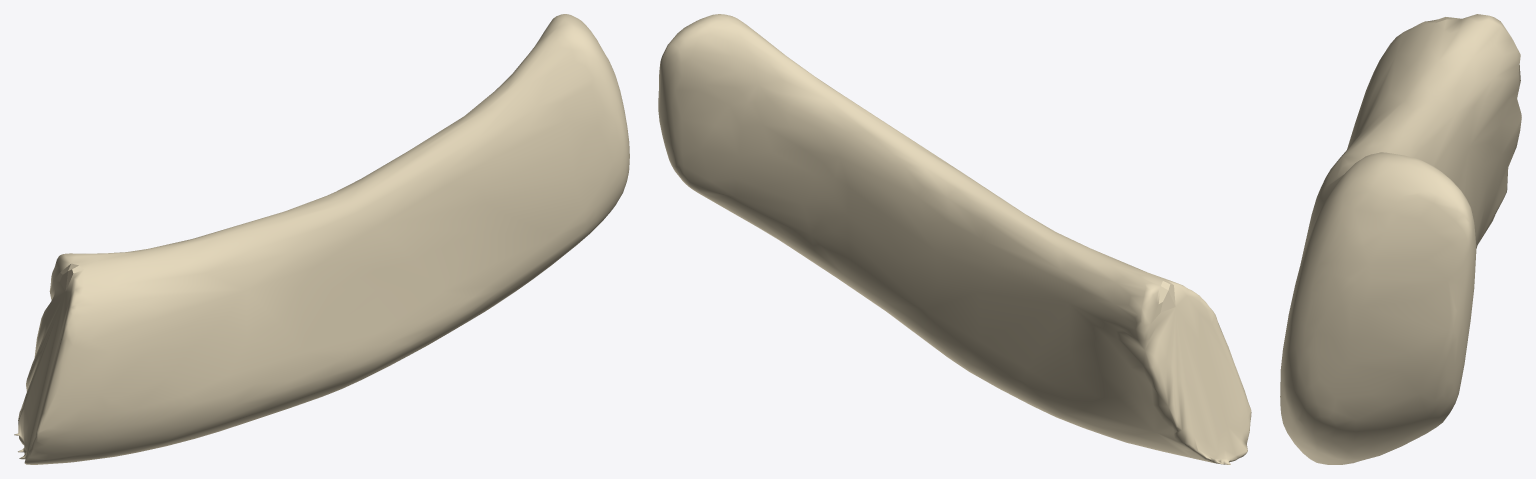
The model's file is esqueleto-costal-cartilage-of-fourth-rib-r.glb.
3 views of the same model, side by side, from view 1: azimuth 30°, elevation 25°; view 2: azimuth 150°, elevation 25°; view 3: azimuth 270°, elevation 25° (orthographic). The views are drawn at different scales.
Visible parts, largest first — view 1: Costal cartilage of fourth rib.r; view 2: Costal cartilage of fourth rib.r; view 3: Costal cartilage of fourth rib.r.
Boxes of the visible parts, <box> form: Costal cartilage of fourth rib.r: <box>14,14,629,464</box>; Costal cartilage of fourth rib.r: <box>658,14,1251,464</box>; Costal cartilage of fourth rib.r: <box>1280,14,1521,464</box>.
Bounding box in the file's own units: 0.0544 × 0.0289 × 0.0126.
